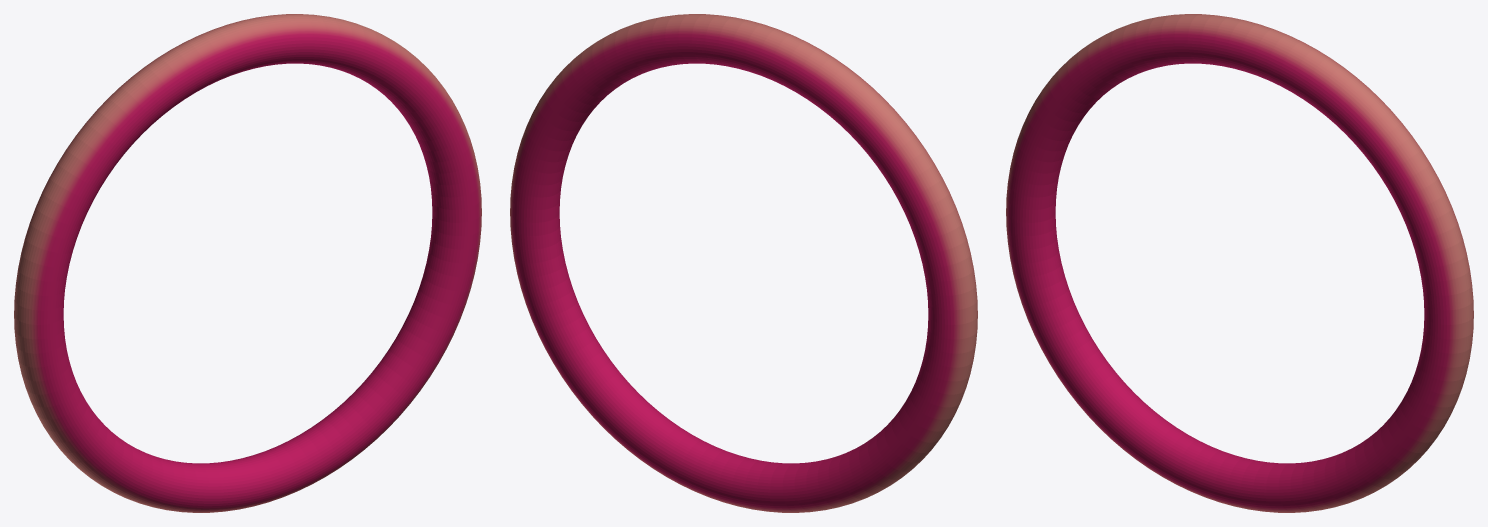
The picture shows the model from 3 angles, left to right: view 1: azimuth 30°, elevation 25°; view 2: azimuth 150°, elevation 25°; view 3: azimuth 330°, elevation 25°; orthographic projection.
Parts seen in each view (by area): view 1: world; view 2: world; view 3: world.
Part boxes in pixels (x1,y1,x2,y2): world: (14, 14, 481, 512); world: (510, 14, 977, 512); world: (1006, 14, 1473, 512).
Size of the model in its own units: 27.2 by 27.2 by 2.53.
